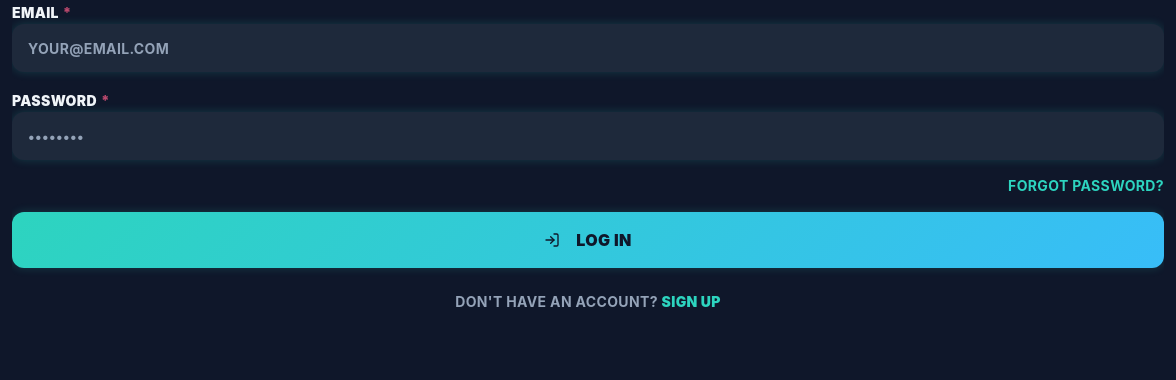
Test case: AuthFormLogin › should clear validation errors on successful validation
Type "invalid-email" into the field labelled "Email*". click: (588, 48)
box: [12,24,1164,72]
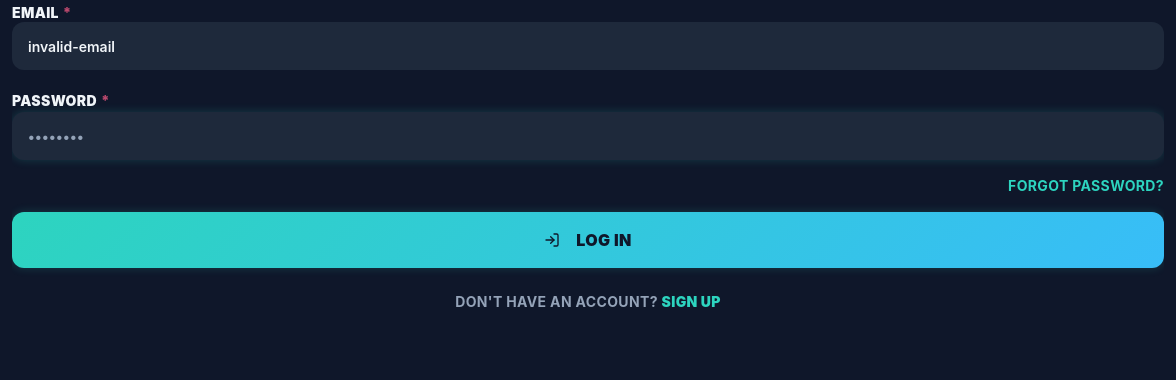
Click the button "Log In". click: (588, 240)
box: [12,212,1164,268]
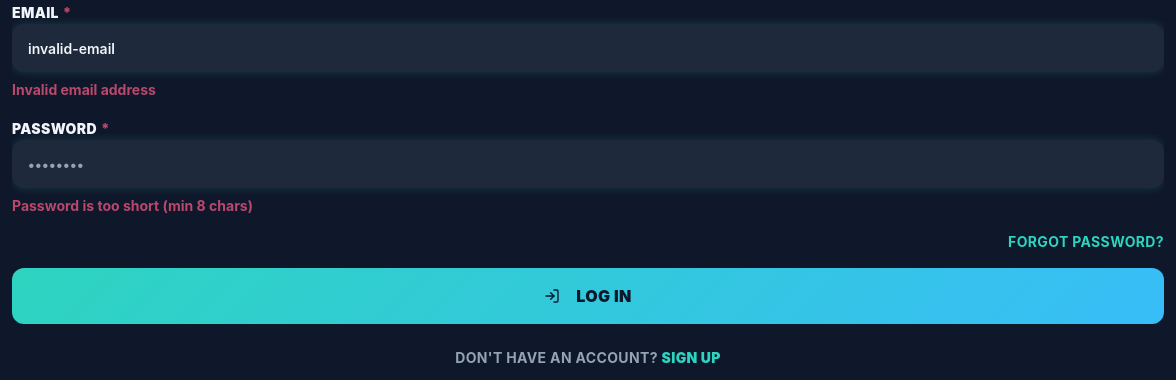
Expected: the text "Invalid email address" is shown, [12,81,156,98]
Clear the field labelled "Email*". click: (588, 48)
box: [12,24,1164,72]
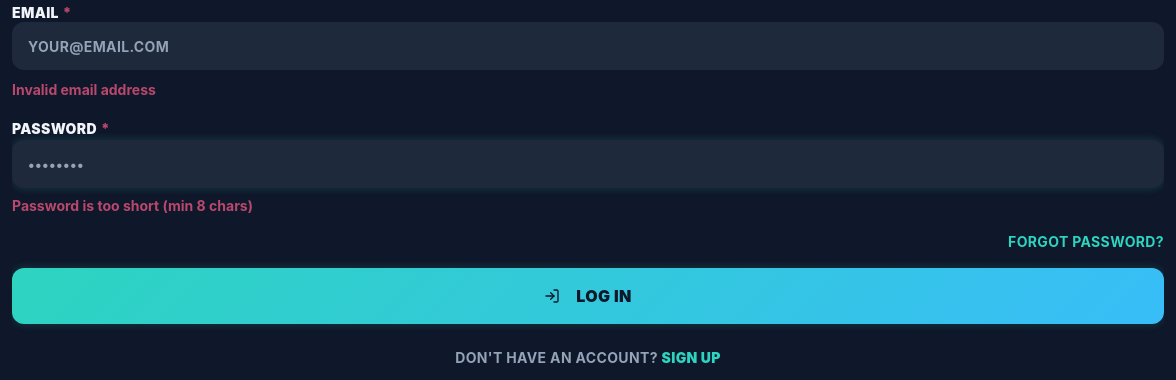
Type "test@example.com" into the field labelled "Email*". click: (588, 46)
box: [12,22,1164,70]
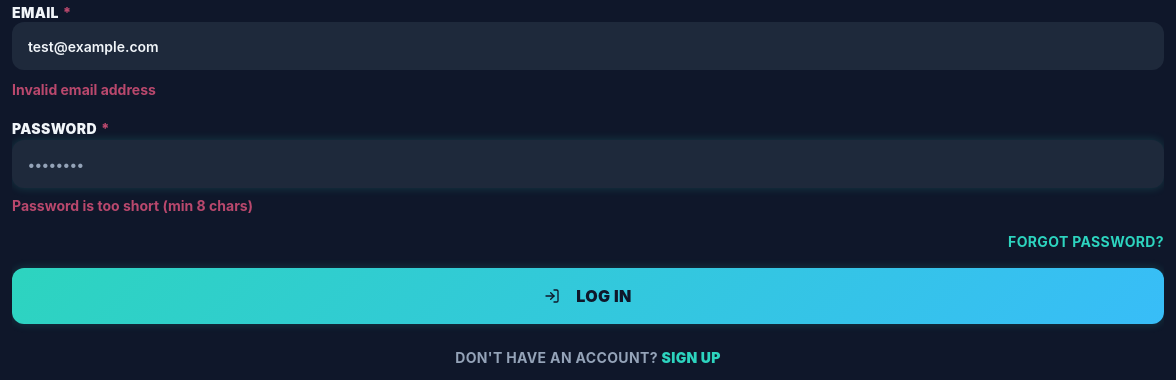
Type "password123" into the password field labelled "Password*". click: (588, 164)
box: [12,140,1164,188]
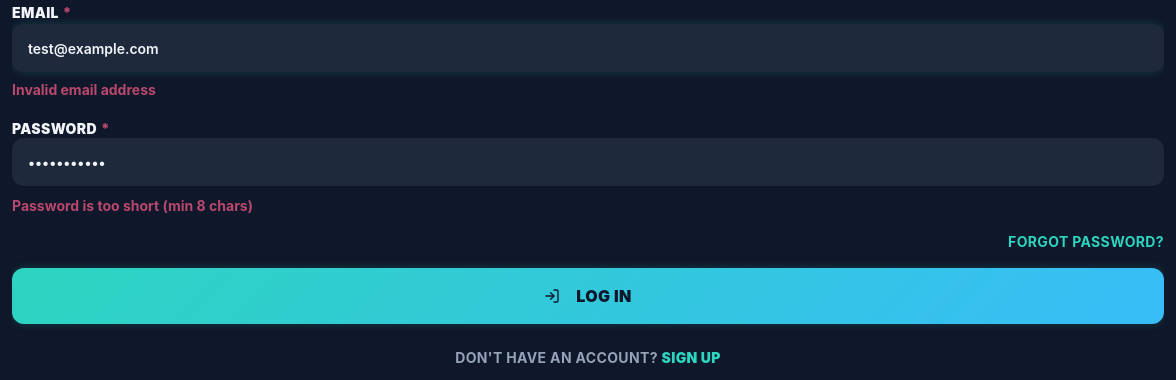
Click the button "Log In". click: (588, 296)
box: [12,268,1164,324]
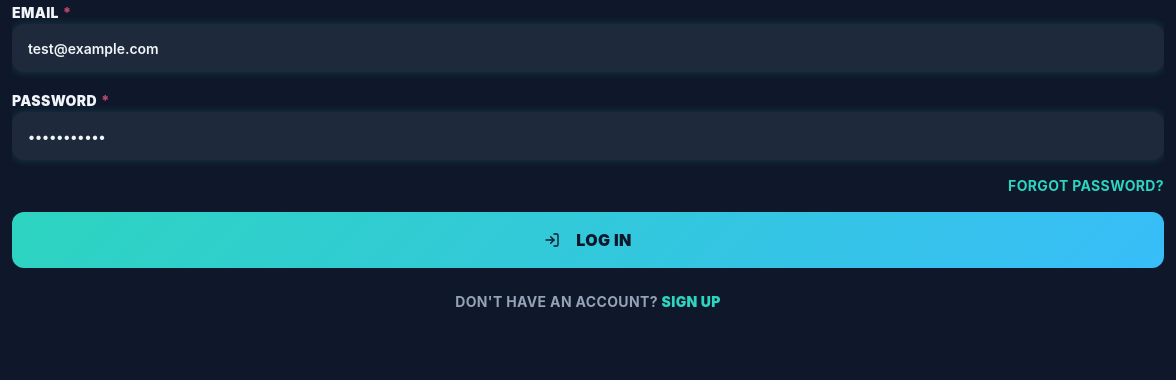
Expected: the text "Invalid email address" is gone
